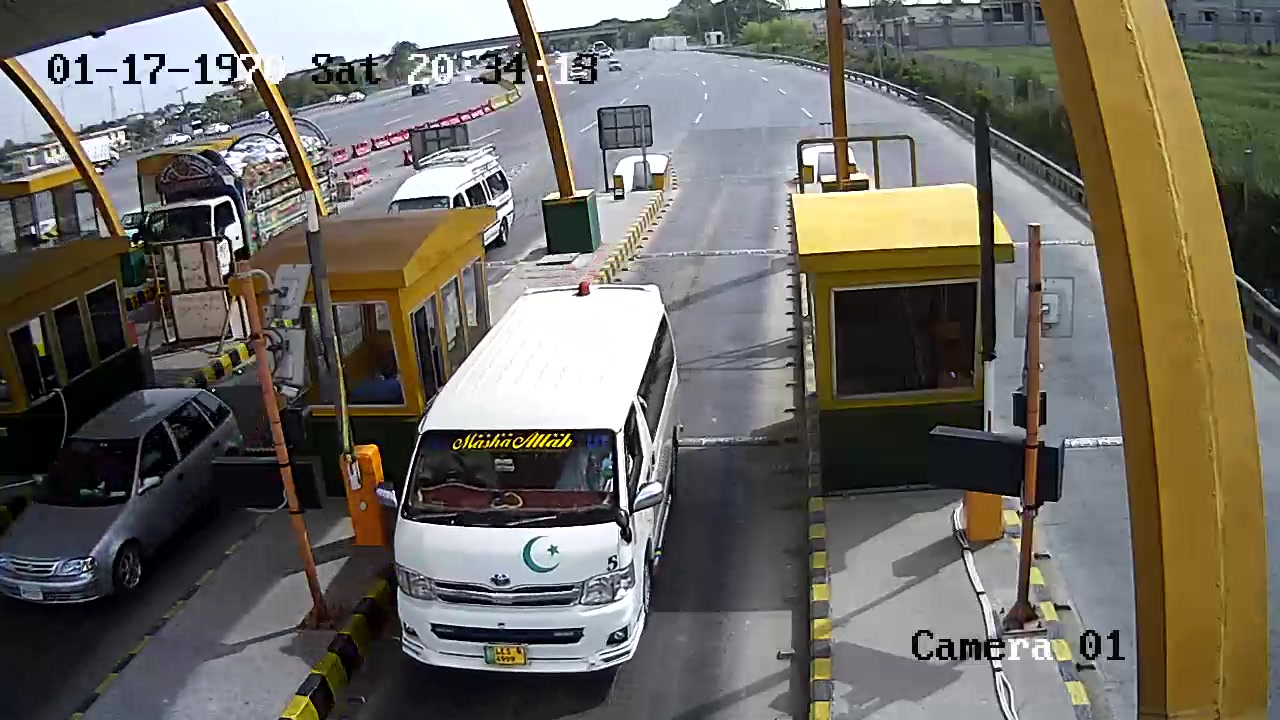F2: (372, 257, 696, 690)
